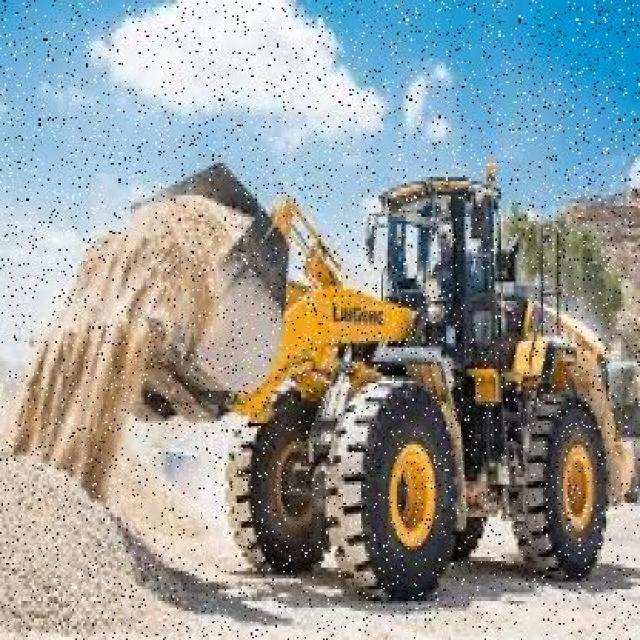buldozerpayloadergrader: (125, 153, 629, 604)
